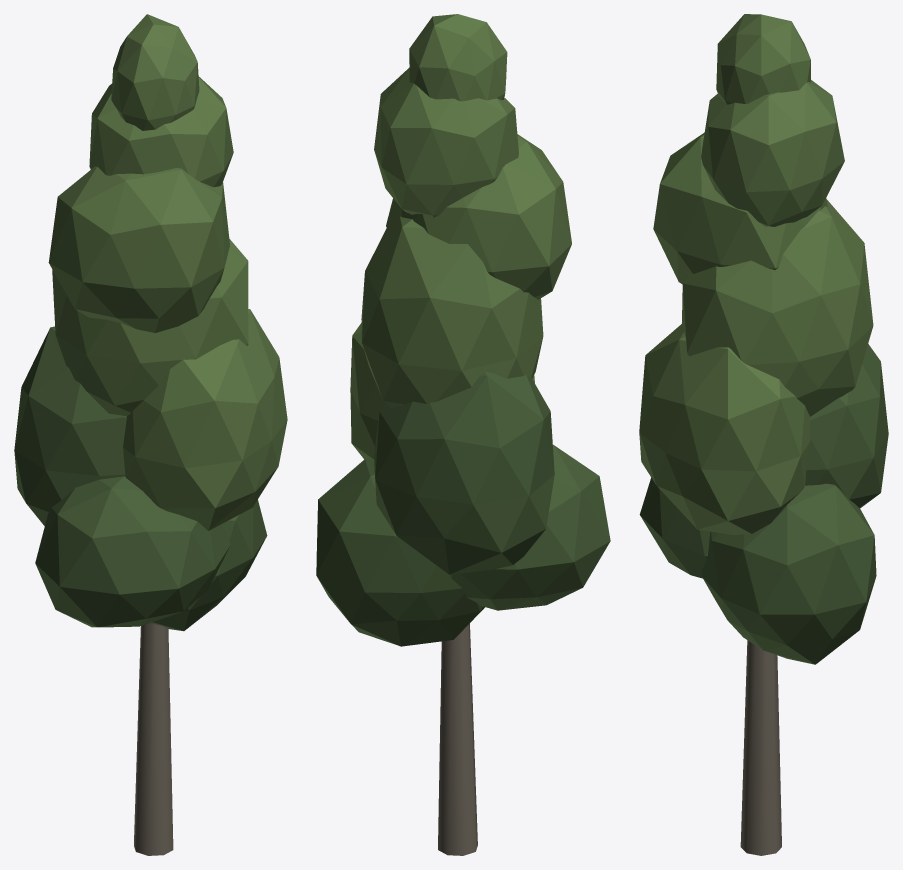
The model's file is tree_poplar.glb.
The picture shows the model from 3 angles, left to right: view 1: azimuth 30°, elevation 25°; view 2: azimuth 150°, elevation 25°; view 3: azimuth 270°, elevation 25°; orthographic projection.
Parts seen in each view (by area): view 1: Foliage_Top, Foliage_Base, Trunk; view 2: Foliage_Top, Foliage_Base, Trunk; view 3: Foliage_Top, Foliage_Base, Trunk.
Boxes of the visible parts, x1=… form: Foliage_Top: x1=48, y1=14, x2=287, y2=530; Foliage_Base: x1=14, y1=326, x2=267, y2=631; Trunk: x1=134, y1=623, x2=173, y2=855; Foliage_Top: x1=350, y1=14, x2=571, y2=460; Foliage_Base: x1=316, y1=372, x2=610, y2=646; Trunk: x1=438, y1=623, x2=477, y2=855; Foliage_Top: x1=639, y1=14, x2=873, y2=534; Foliage_Base: x1=639, y1=344, x2=888, y2=664; Trunk: x1=740, y1=640, x2=781, y2=855.
Bounding box in the file's own units: 3.71 × 12.42 × 3.37.
